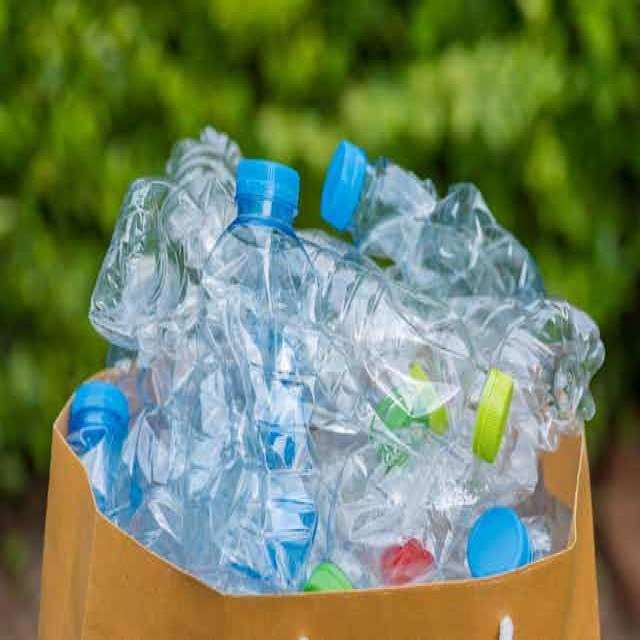plastic_bottle: (177, 146, 343, 604)
